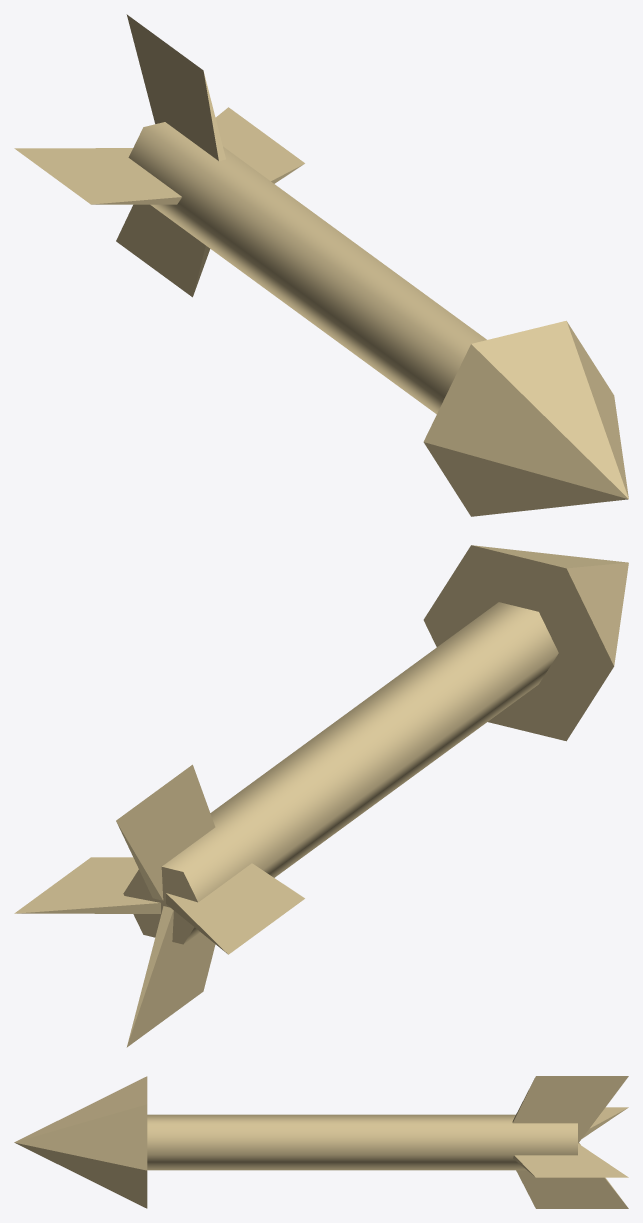
File: Arrow4.fbx
3 views of the same model, one above another, from view 1: azimuth 30°, elevation 25°; view 2: azimuth 150°, elevation 25°; view 3: azimuth 270°, elevation 25° (orthographic). The views are drawn at different scales.
Parts seen in each view (by area): view 1: Arrow4; view 2: Arrow4; view 3: Arrow4.
Boxes of the visible parts, x1=… form: Arrow4: x1=14, y1=14, x2=628, y2=516; Arrow4: x1=14, y1=545, x2=628, y2=1047; Arrow4: x1=14, y1=1076, x2=628, y2=1208.
Bounding box in the file's own units: 79.6 × 326 × 79.6.
